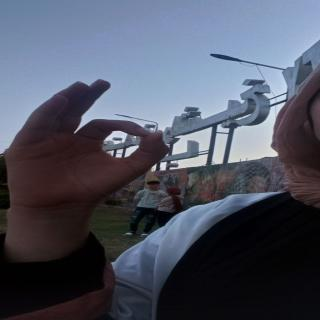Space: (0, 78, 174, 204)
